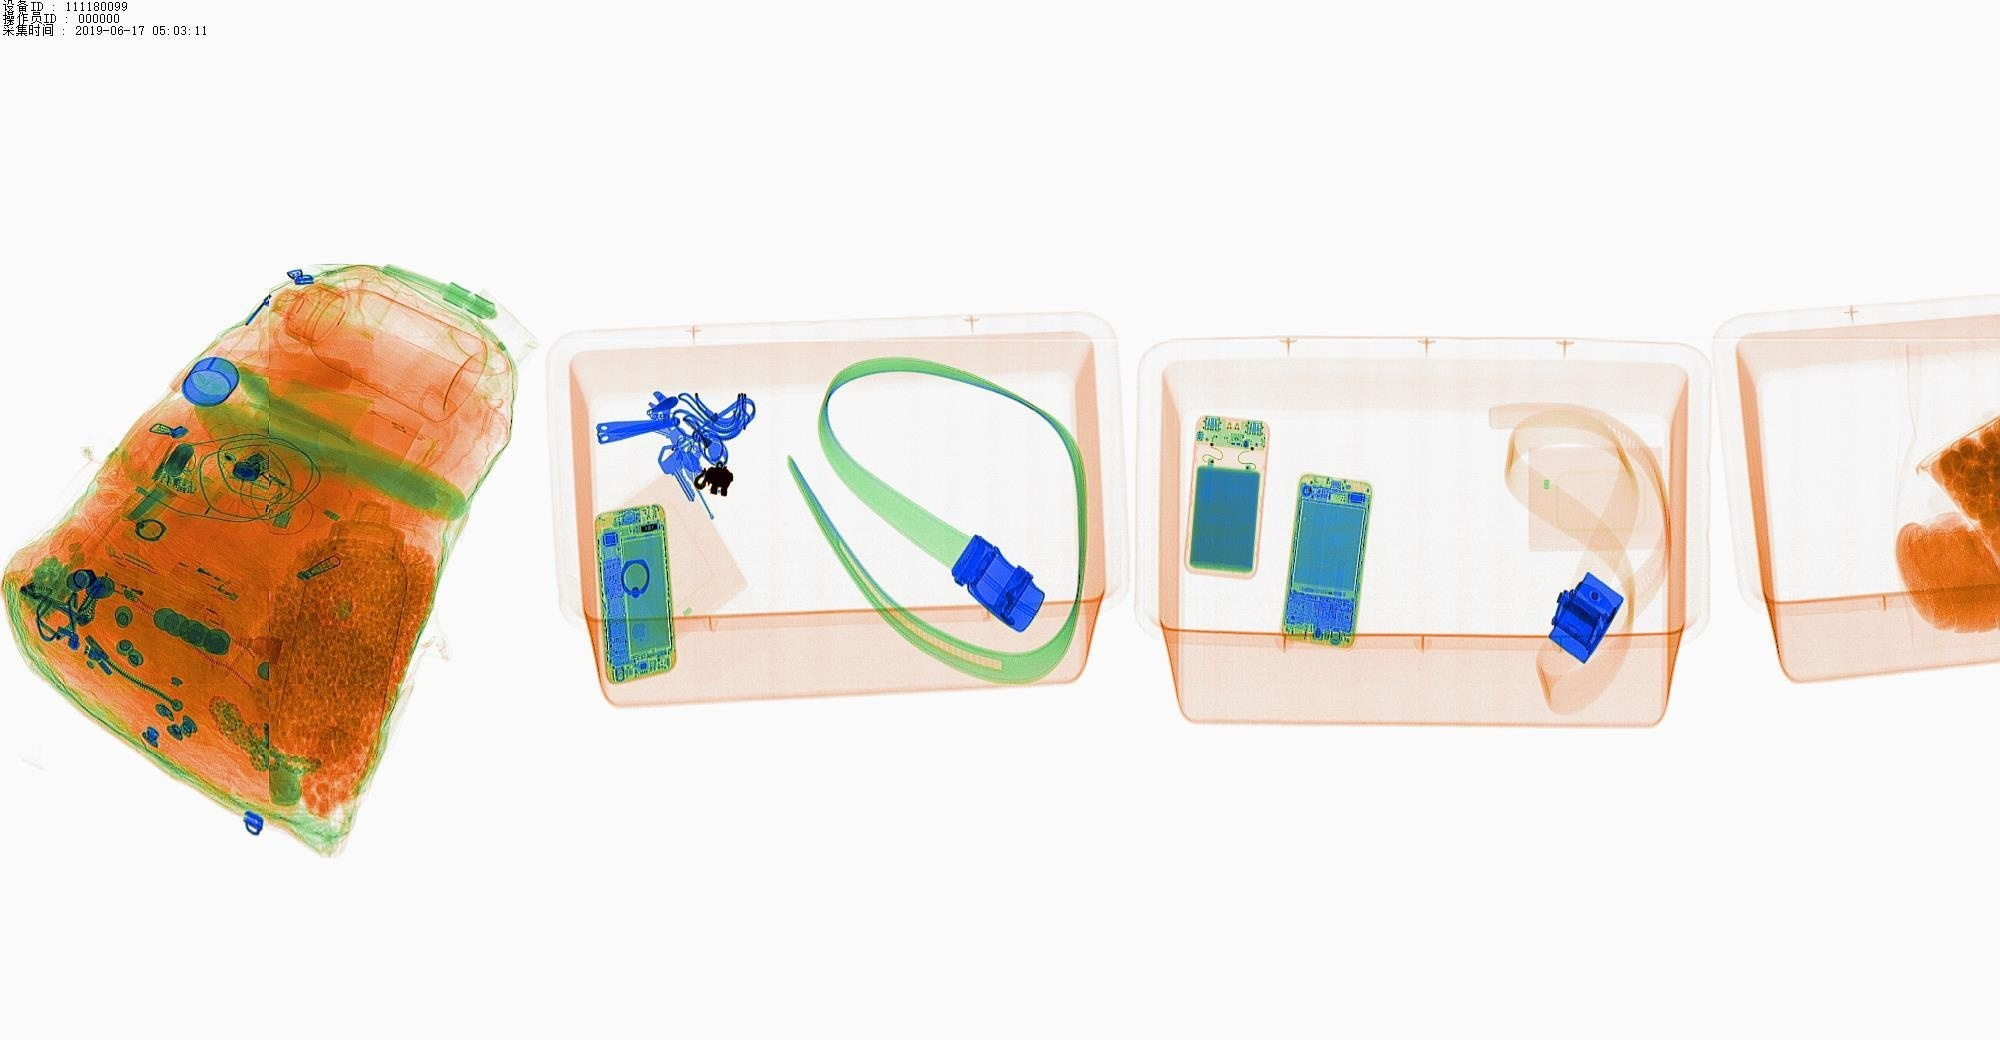NonmetallicFire: (161, 546, 253, 615), (89, 572, 183, 628)
